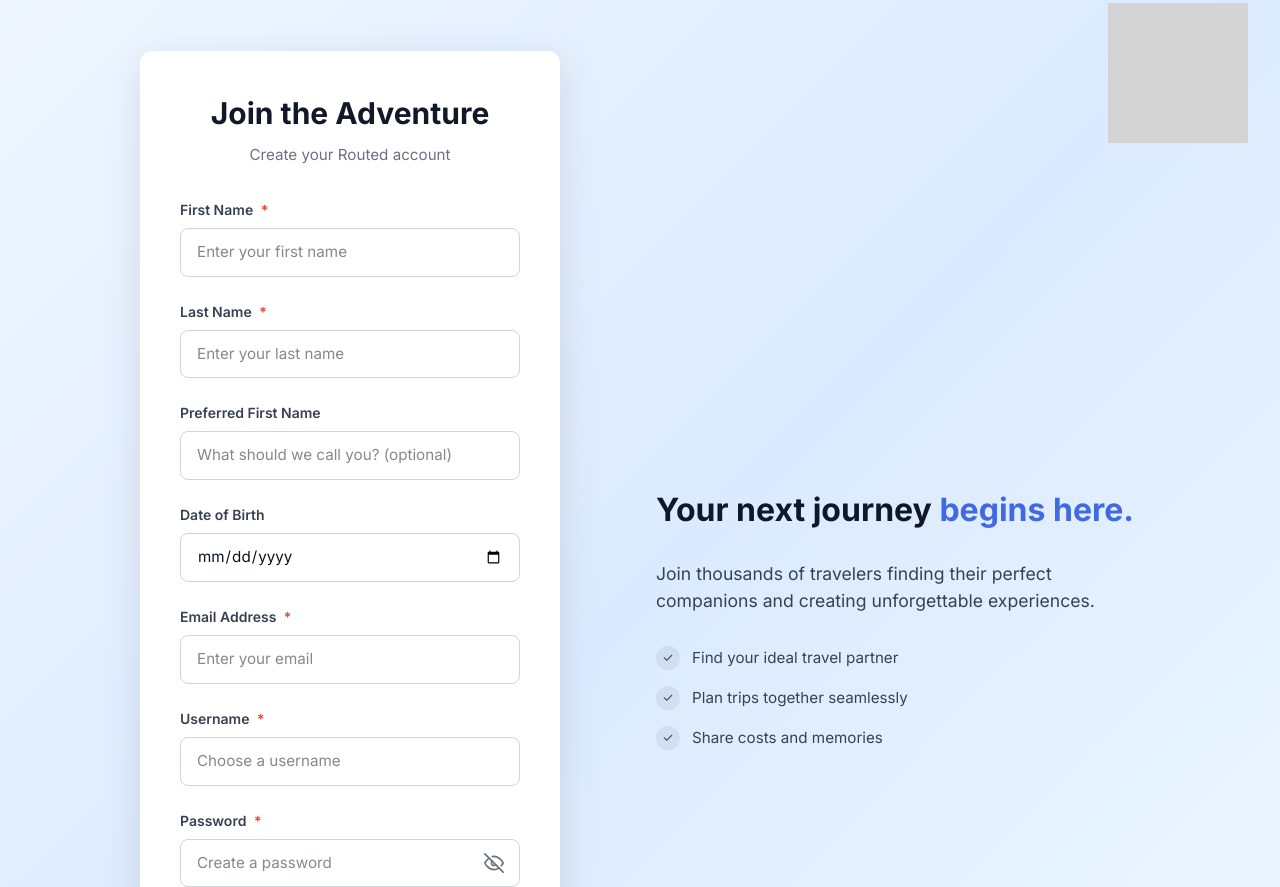
Test: Signup › shows error when password is too short
Type "John" into the field labelled "First Name *" at (350, 252), box [180, 228, 520, 277]
Type "Doe" into the field labelled "Last Name *" at (350, 354), box [180, 330, 520, 378]
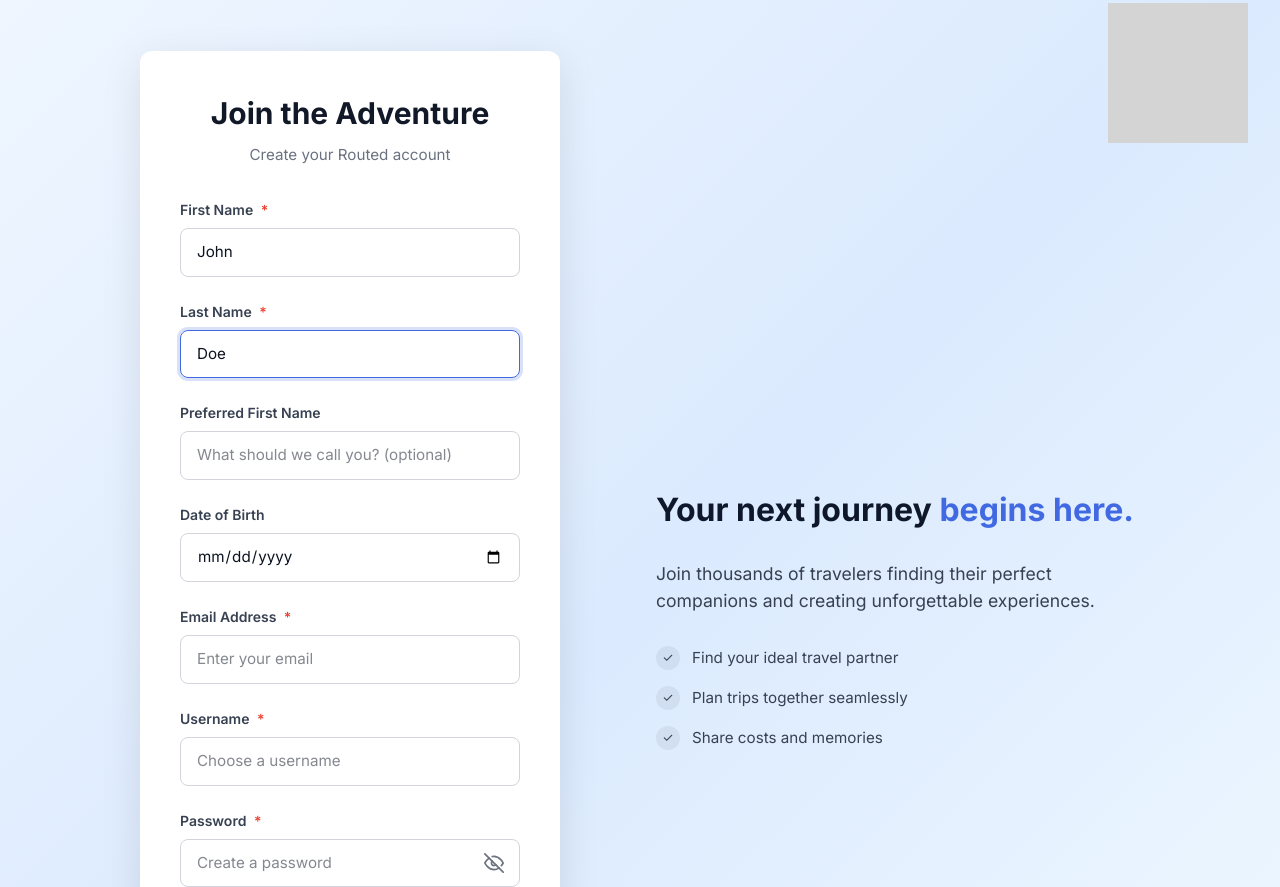
Type "john@example.com" into the field labelled "Email Address *" at (350, 659), box [180, 635, 520, 684]
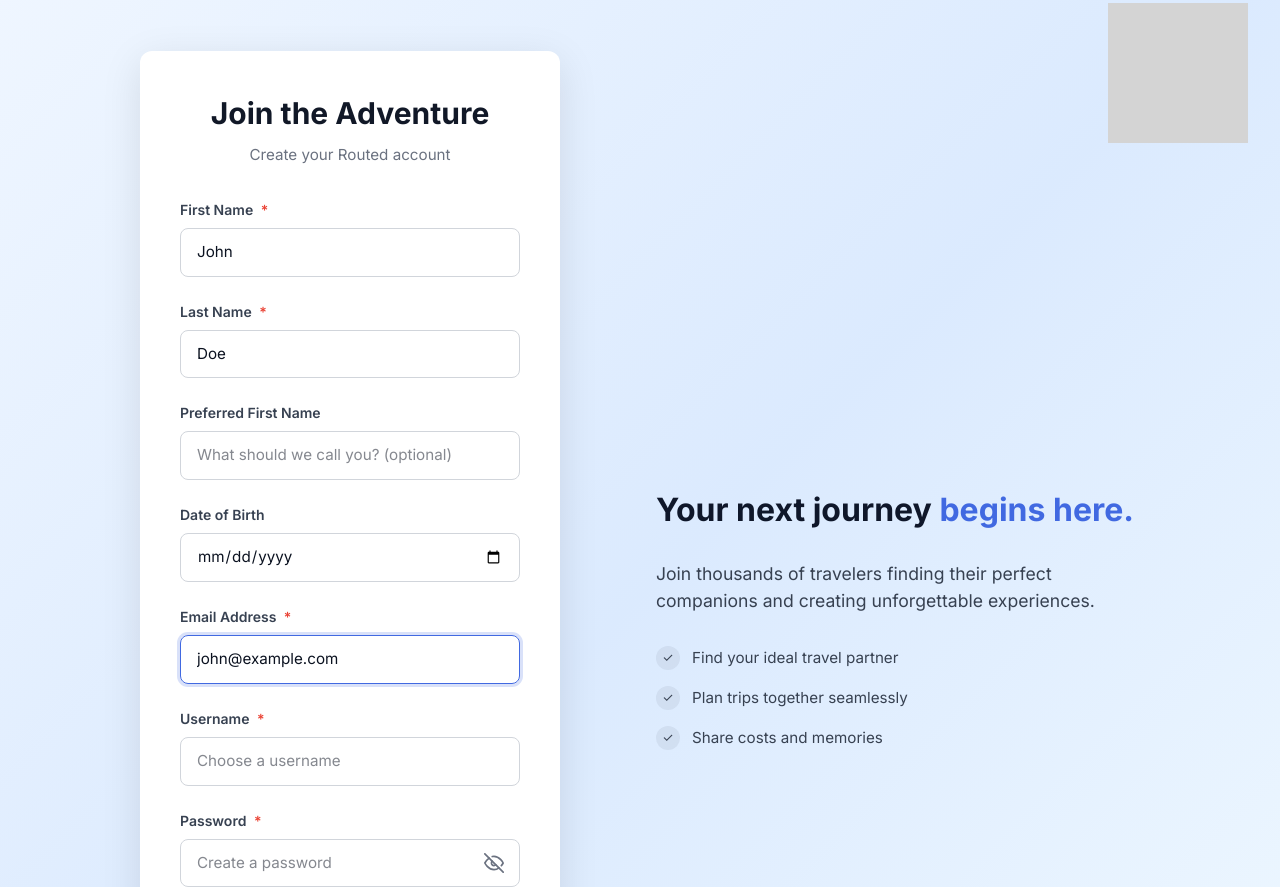
Type "johndoe" into the field labelled "Username *" at (350, 761), box [180, 737, 520, 786]
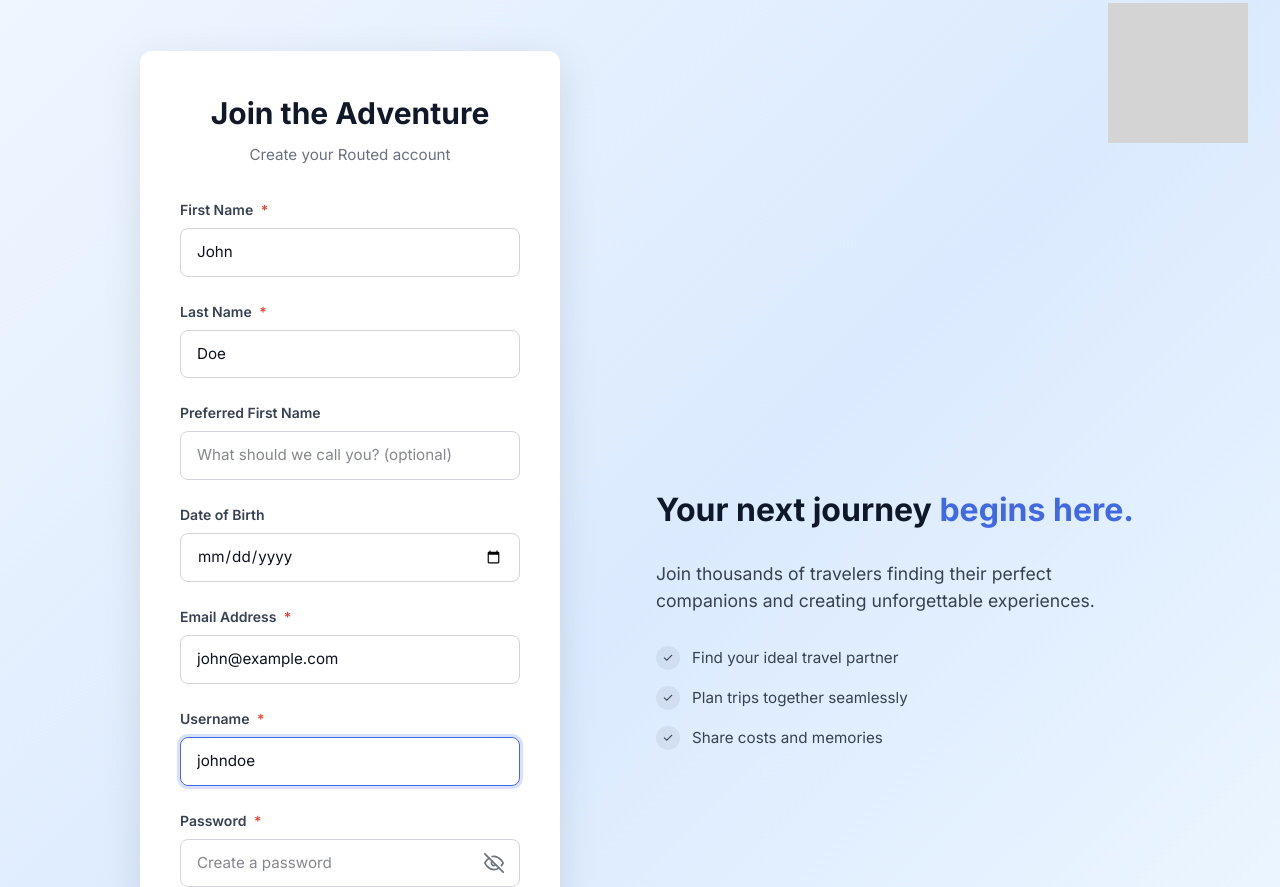
Type "abc" into the password field labelled "Password *" at (350, 863), box [180, 838, 520, 886]
(page scrolled)
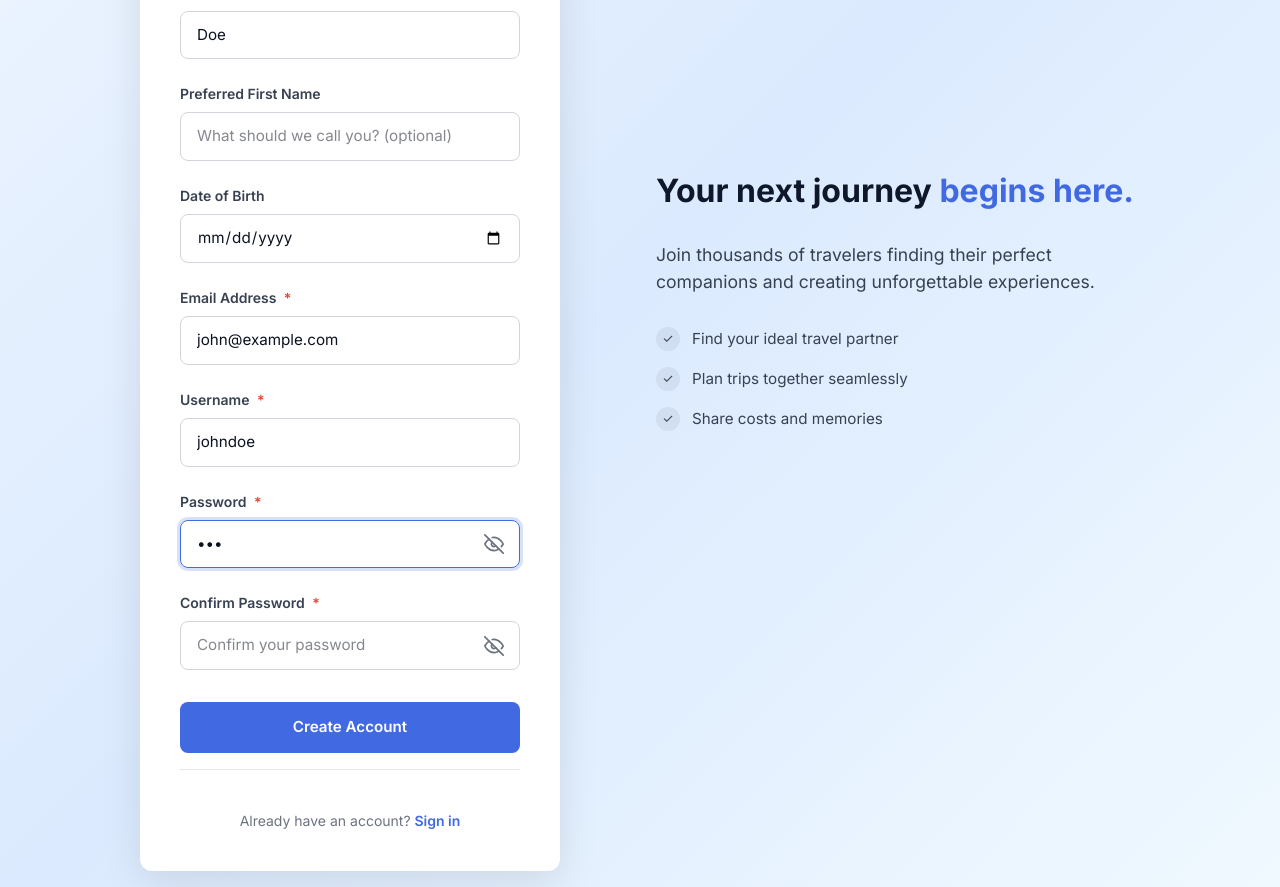
Type "abc" into the password field labelled "Confirm Password *" at (350, 646), box [180, 621, 520, 670]
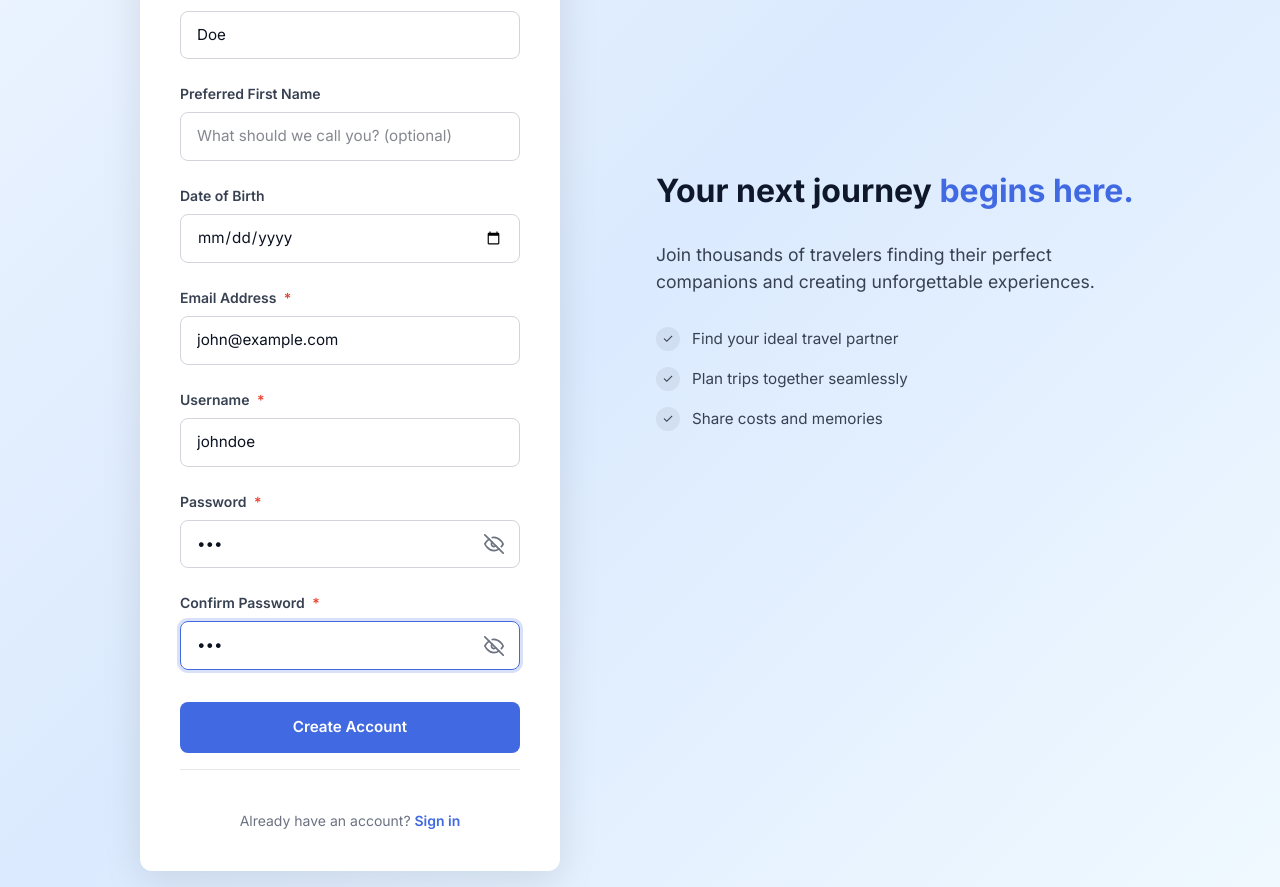
Click the button "Create Account" at (350, 728), box [180, 702, 520, 753]
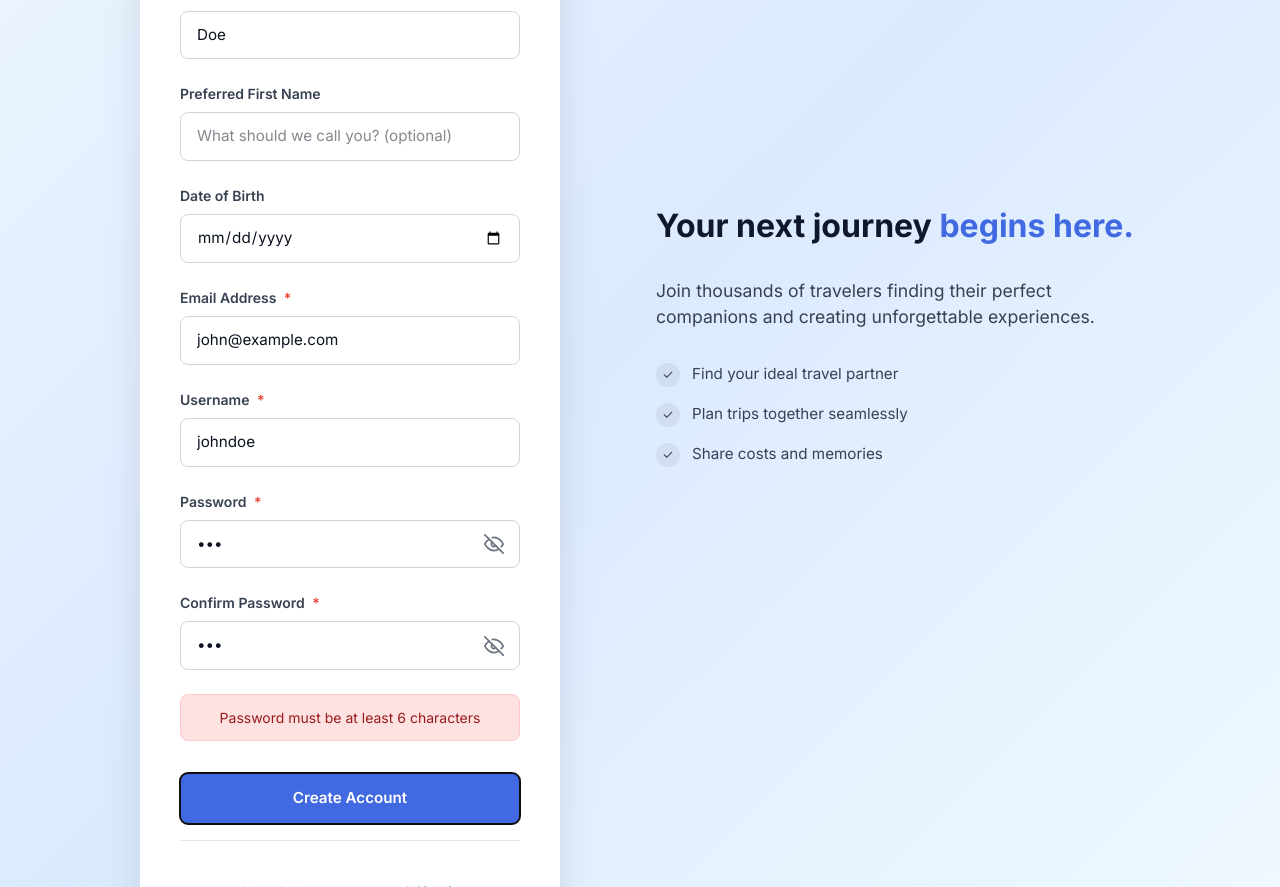
Check: the text "Password must be at least 6 characters" is shown, box [180, 694, 520, 741]
